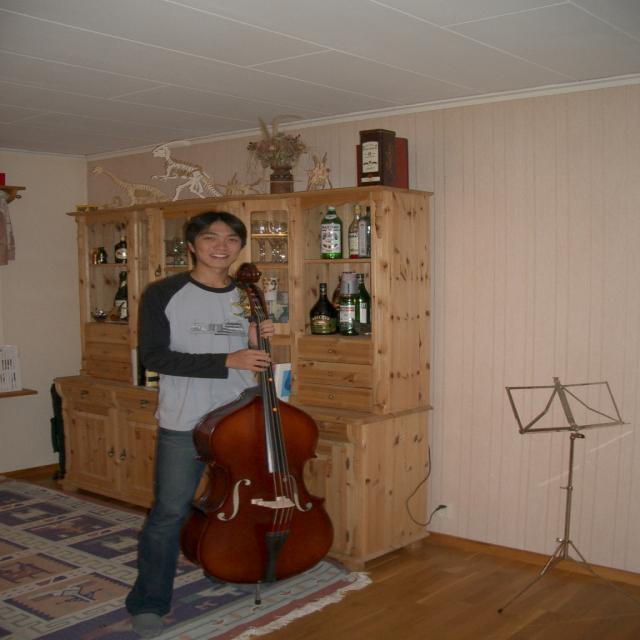cello: (178, 258, 338, 592)
